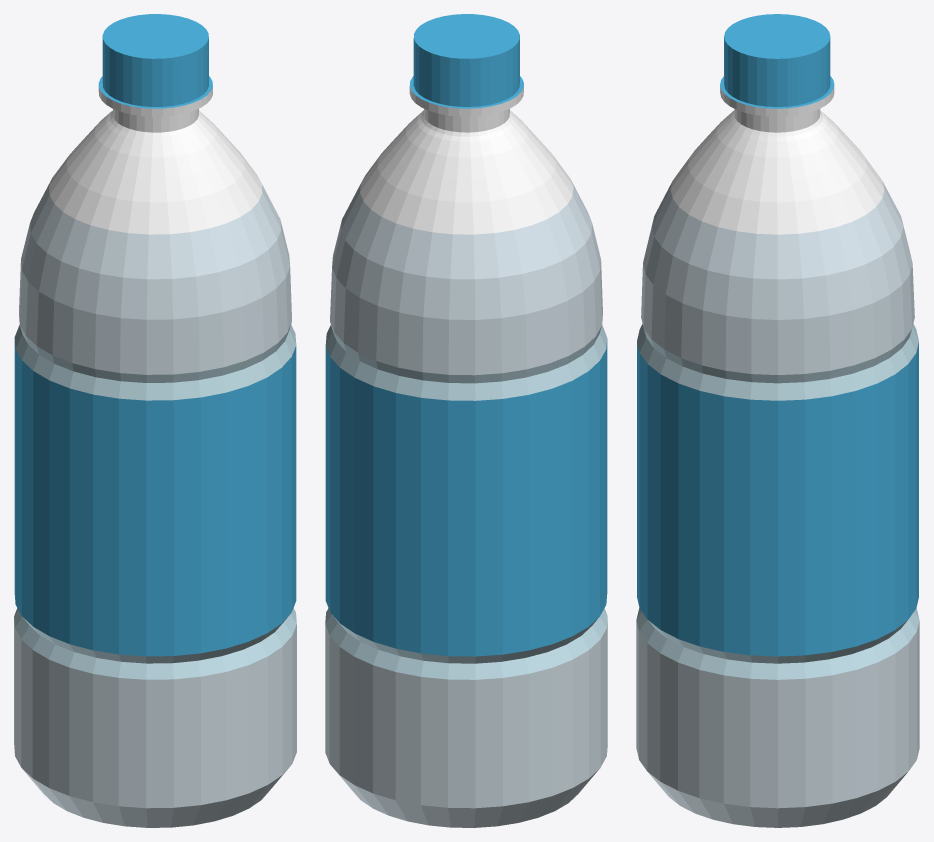
The model's file is enemy 1.fbx.
The picture shows the model from 3 angles, left to right: view 1: azimuth 30°, elevation 25°; view 2: azimuth 150°, elevation 25°; view 3: azimuth 270°, elevation 25°; orthographic projection.
Parts seen in each view (by area): view 1: Cylinder; view 2: Cylinder; view 3: Cylinder.
Boxes of the visible parts, x1,y1,x2,y2 form: Cylinder: (14, 14, 296, 827); Cylinder: (325, 14, 607, 827); Cylinder: (636, 14, 919, 827).
Bounding box in the file's own units: 147 × 147 × 426.
